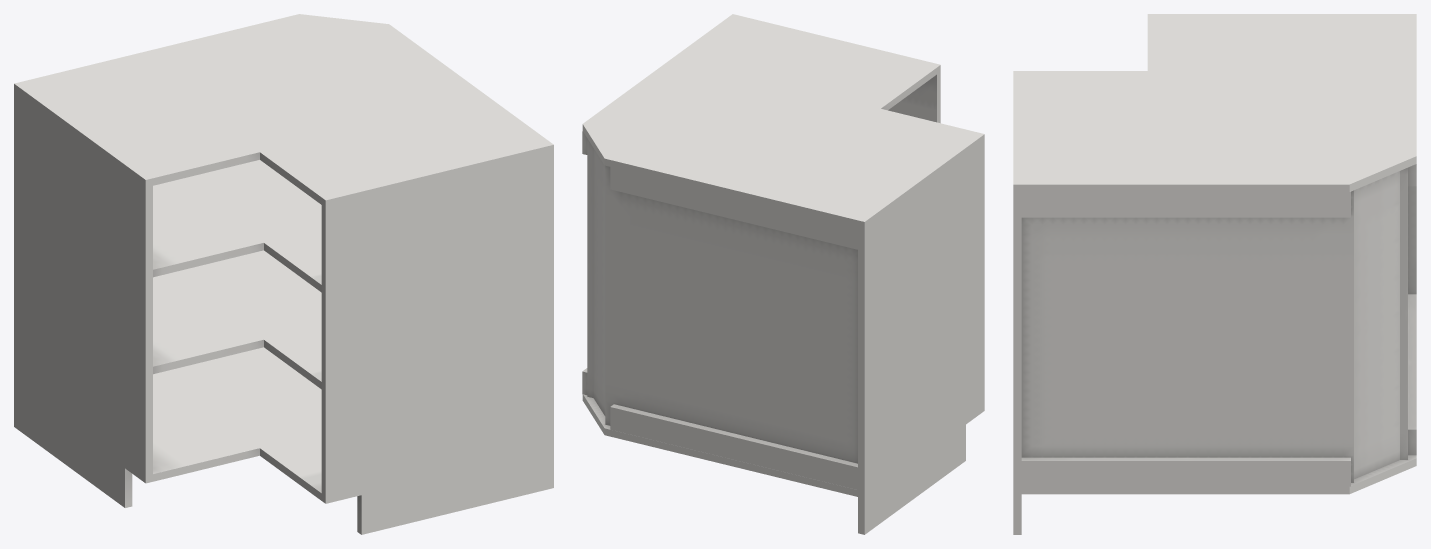
File: 90-corner-base-doors-off.glb
The picture shows the model from 3 angles, left to right: view 1: azimuth 30°, elevation 25°; view 2: azimuth 150°, elevation 25°; view 3: azimuth 270°, elevation 25°; orthographic projection. The views are drawn at different scales.
Visible parts, largest first — view 1: part_0; view 2: part_0; view 3: part_0.
Part boxes in pixels (<box>): part_0: <box>14,14,553,534</box>; part_0: <box>582,14,984,534</box>; part_0: <box>1013,14,1416,534</box>.
Size of the model in its own units: 0.9144 by 0.8763 by 0.9144.
Materials: 1 (1 with a texture image).
